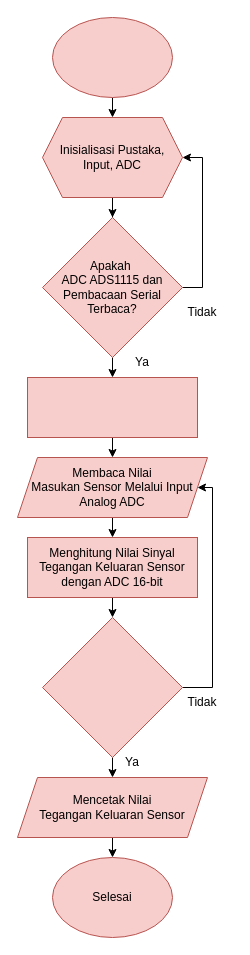
The diagram is 250 pixels wide and 955 high, and some of its shapes have lost their labels. The centre of each missing label's shape, as x and y in pixels:
"Apakah Nilai Tegangan dapat Terbaca?" belongs at (112,687).
"Mulai" belongs at (112,57).
"Pengaturan Gain ADC" belongs at (112,407).
